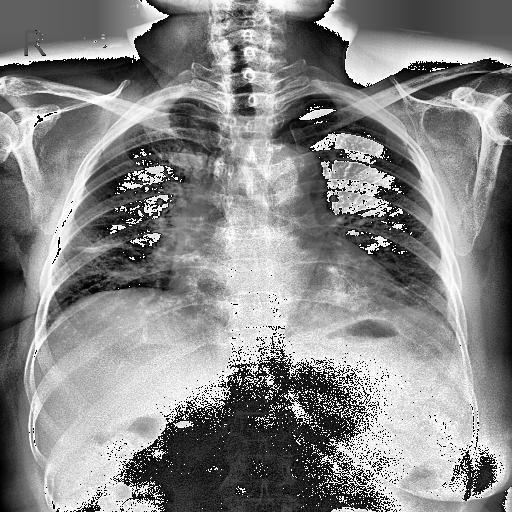0- Aortic enlargement: (248, 140, 328, 206), (252, 141, 326, 210), (268, 142, 326, 200)
13- Pulmonary fibrosis: (74, 242, 152, 255), (75, 244, 144, 256), (74, 241, 136, 253)
3- Cardiomegaly: (170, 238, 402, 312), (162, 266, 410, 332), (168, 260, 412, 312)
5- ILD: (46, 102, 199, 298)
